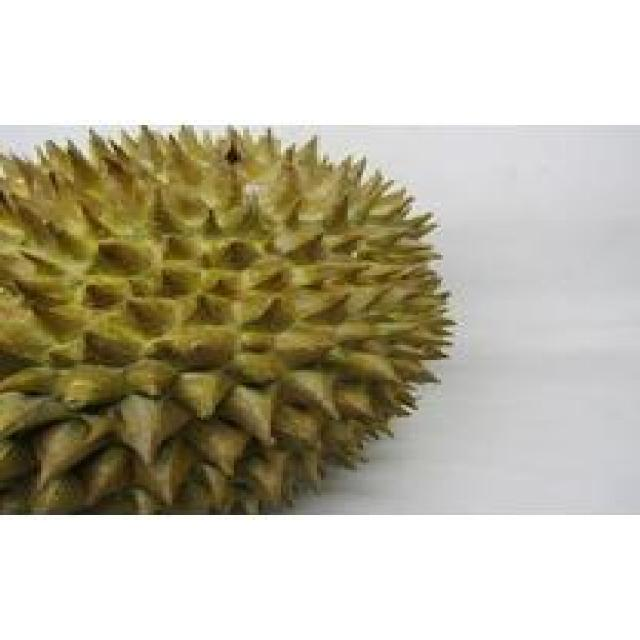fruit: (142, 122, 486, 520)
